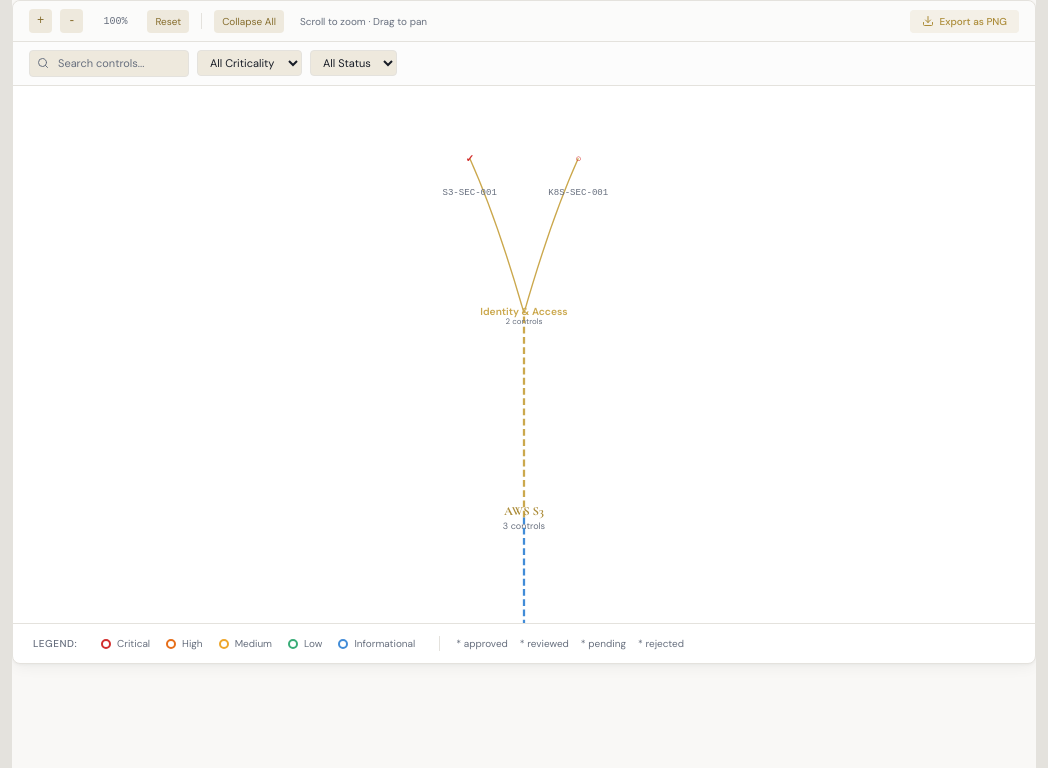
it: BaselineMindMap integration › collapse all hides control nodes and changes button text
Click the button labelled "Collapse All" at (249, 21), box [214,10,284,32]
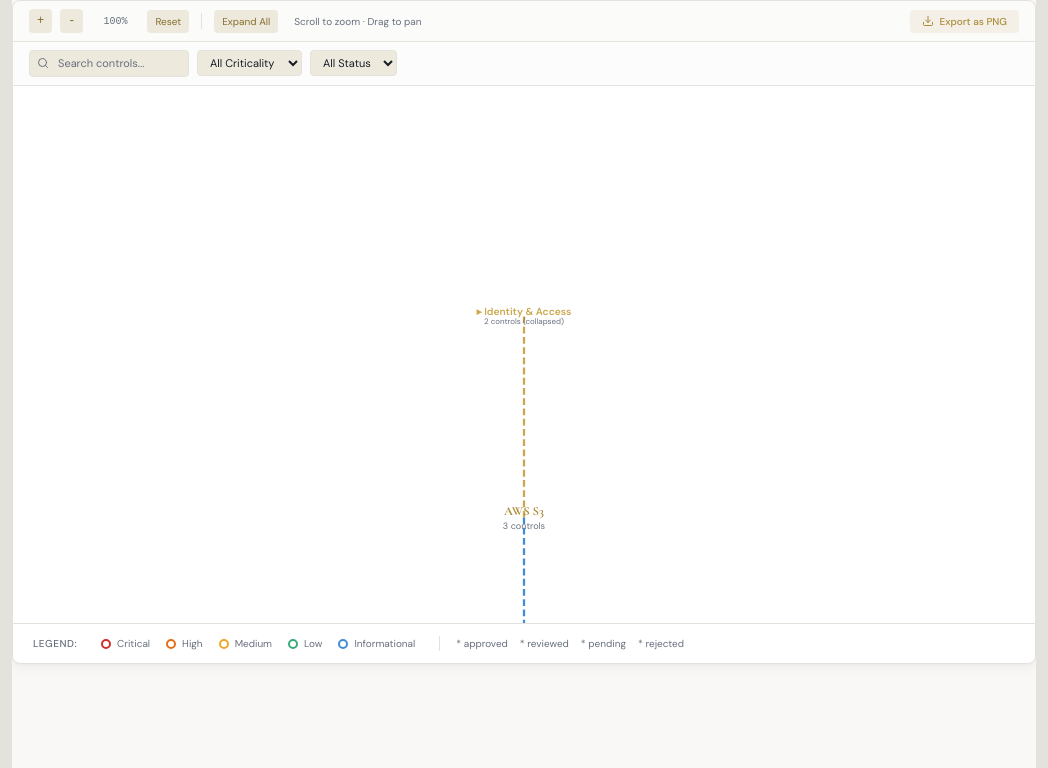
Result: the button "Expand All" is shown at [214,10,278,32]
